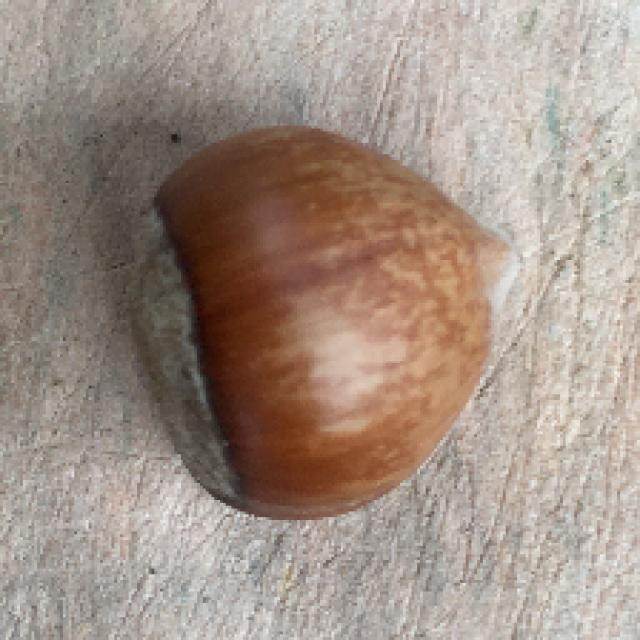qualityHazelnut: (126, 123, 534, 526)
